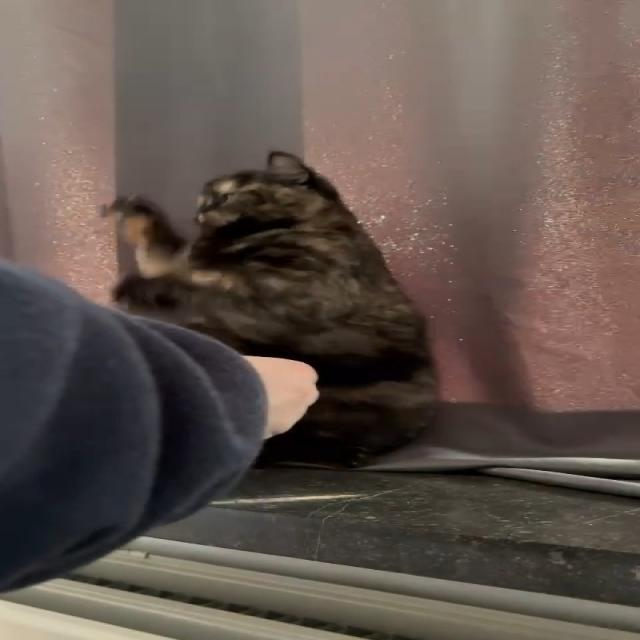authorized: (106, 150, 442, 470)
